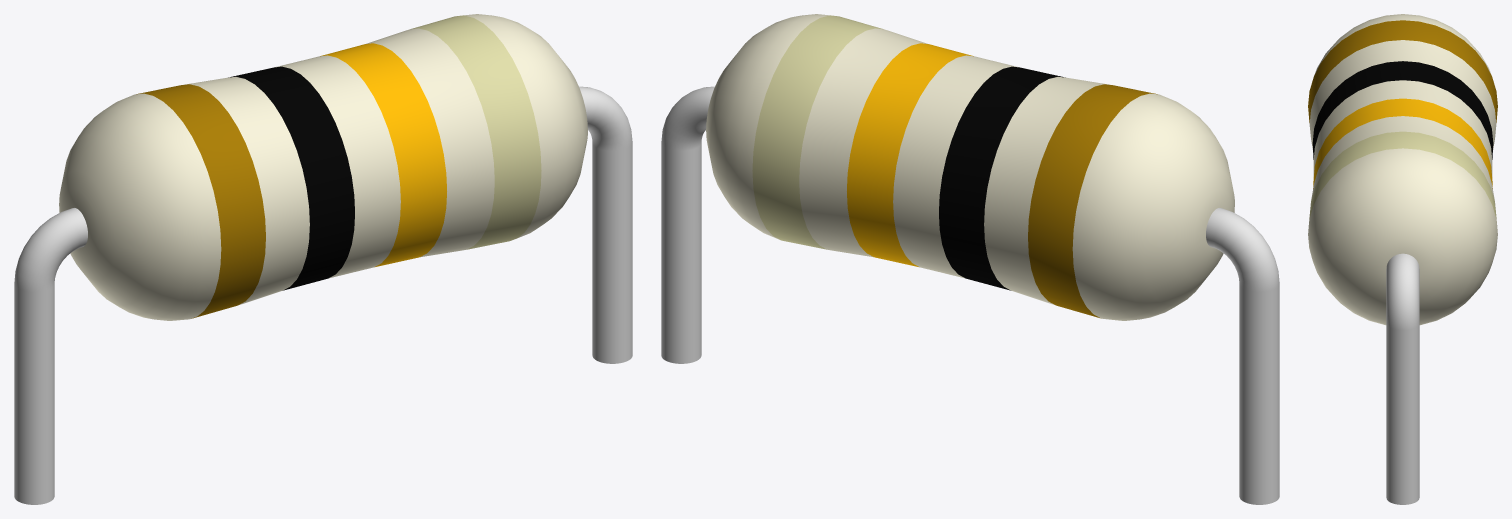
Rendered from Axial0_4_10K.fbx.
3 renders of one model, left to right at view 1: azimuth 30°, elevation 25°; view 2: azimuth 150°, elevation 25°; view 3: azimuth 270°, elevation 25°, orthographic. The views are drawn at different scales.
Parts seen in each view (by area): view 1: Axial0_4_10K; view 2: Axial0_4_10K; view 3: Axial0_4_10K.
Part boxes in pixels (<box>): Axial0_4_10K: <box>14,14,632,504</box>; Axial0_4_10K: <box>661,14,1279,504</box>; Axial0_4_10K: <box>1308,14,1497,504</box>.
Size of the model in its own units: 1.07 by 0.6072 by 0.3507.
